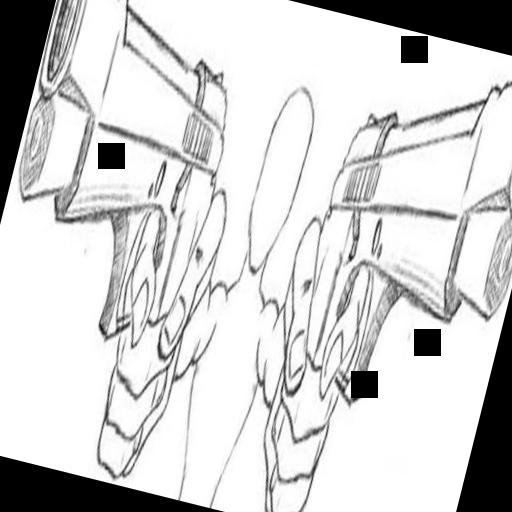Handgun: (0, 0, 268, 491), (255, 42, 512, 505)
